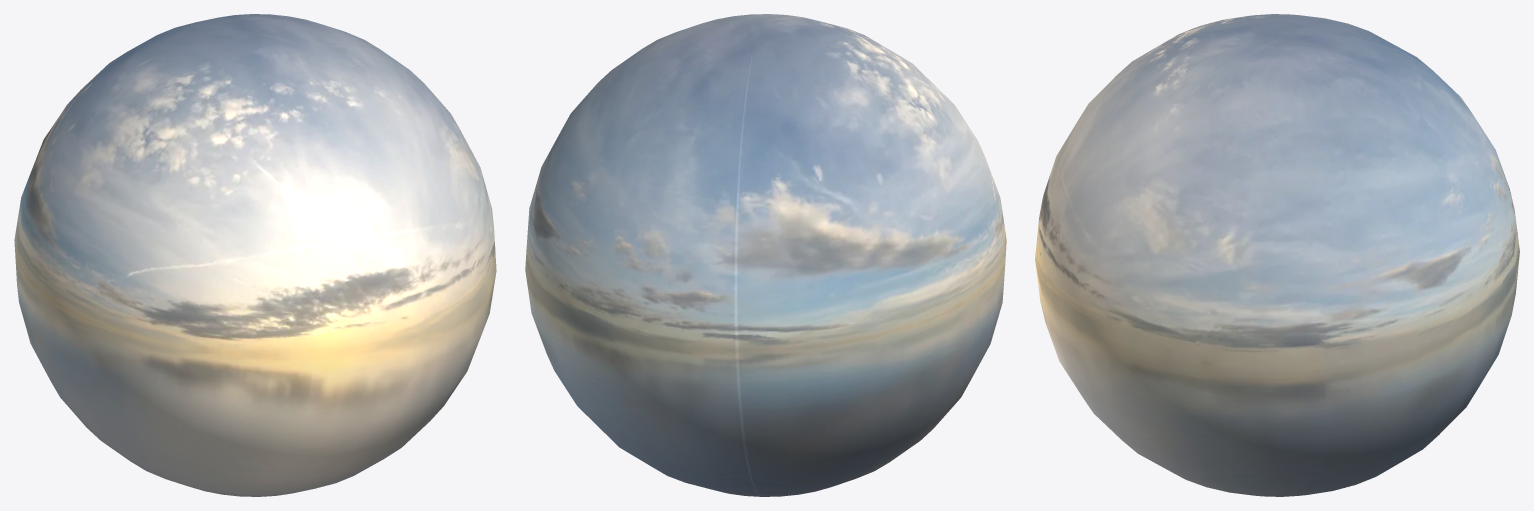
File: aurore.gltf
3 renders of one model, left to right at view 1: azimuth 30°, elevation 25°; view 2: azimuth 150°, elevation 25°; view 3: azimuth 270°, elevation 25°, orthographic.
Parts seen in each view (by area): view 1: aube; view 2: aube; view 3: aube.
Boxes of the visible parts, left/top/right/bottom form: aube: left=14, top=14, right=496, bottom=496; aube: left=525, top=14, right=1006, bottom=496; aube: left=1035, top=14, right=1519, bottom=496.
Size of the model in its own units: 444 by 444 by 444.
Materials: 1 (1 with a texture image).
